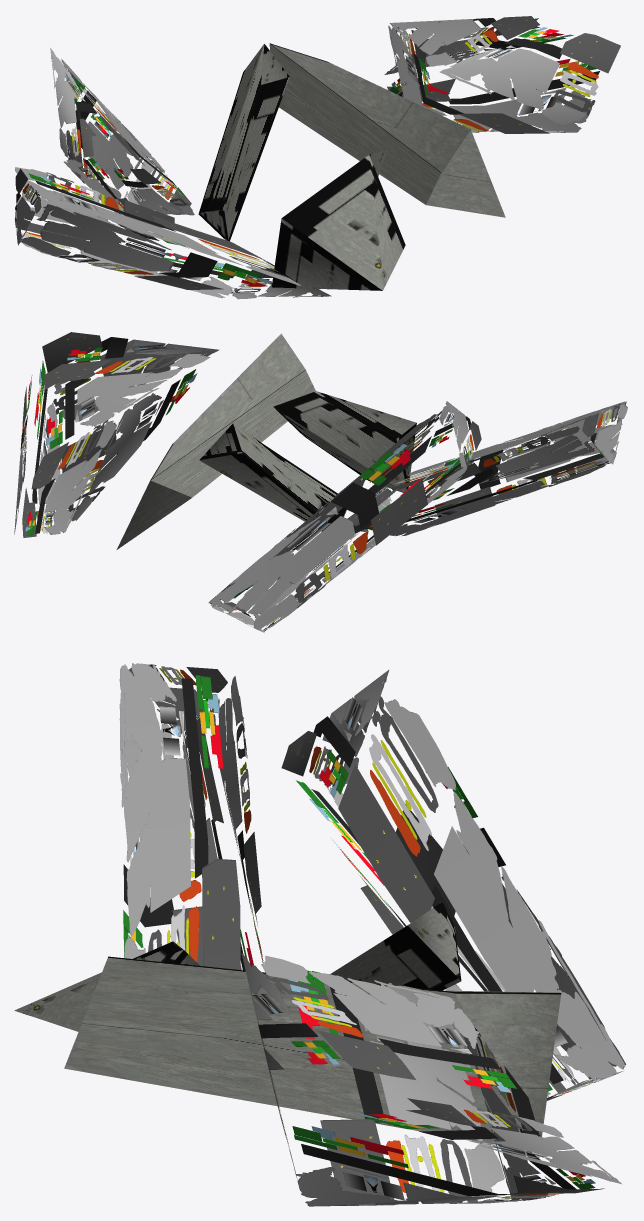
Rendered from Shrapnel.FBX.
The picture shows the model from 3 angles, top to bottom: view 1: azimuth 30°, elevation 25°; view 2: azimuth 150°, elevation 25°; view 3: azimuth 270°, elevation 25°; orthographic projection. The views are drawn at different scales.
Parts seen in each view (by area): view 1: Shrapnel_004, Shrapnel_01, Shrapnel_002, Shrapnel_005, Shrapnel_003, Shrapnel_006; view 2: Shrapnel_004, Shrapnel_003, Shrapnel_002, Shrapnel_01, Shrapnel_005, Shrapnel_006; view 3: Shrapnel_004, Shrapnel_01, Shrapnel_003, Shrapnel_002, Shrapnel_006, Shrapnel_005.
Boxes of the visible parts, x1=… form: Shrapnel_004: x1=384, y1=16, x2=620, y2=133; Shrapnel_01: x1=269, y1=43, x2=505, y2=217; Shrapnel_002: x1=14, y1=167, x2=331, y2=299; Shrapnel_005: x1=271, y1=149, x2=405, y2=290; Shrapnel_003: x1=50, y1=48, x2=194, y2=215; Shrapnel_006: x1=198, y1=44, x2=289, y2=241; Shrapnel_004: x1=14, y1=332, x2=218, y2=537; Shrapnel_003: x1=208, y1=401, x2=481, y2=632; Shrapnel_002: x1=354, y1=401, x2=627, y2=536; Shrapnel_01: x1=116, y1=333, x2=315, y2=549; Shrapnel_005: x1=273, y1=391, x2=416, y2=492; Shrapnel_006: x1=199, y1=423, x2=346, y2=531; Shrapnel_004: x1=241, y1=953, x2=621, y2=1206; Shrapnel_01: x1=64, y1=956, x2=561, y2=1144; Shrapnel_003: x1=281, y1=670, x2=625, y2=1100; Shrapnel_002: x1=119, y1=663, x2=265, y2=972; Shrapnel_006: x1=330, y1=901, x2=461, y2=990; Shrapnel_005: x1=14, y1=941, x2=199, y2=1031.
Bounding box in the file's own units: 20.86 × 7.94 × 13.53.
Materials: 4 (4 with a texture image).
